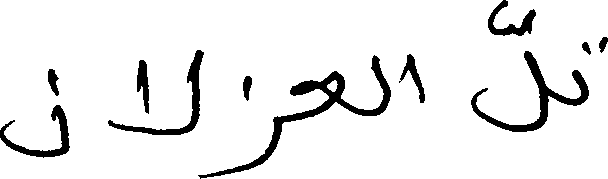ا: (403, 51, 426, 103)
ت: (570, 34, 606, 106)
ز: (224, 74, 282, 175)
ع: (287, 69, 344, 123)
ل: (469, 0, 547, 133), (368, 52, 391, 116)
لا: (107, 48, 204, 140)
ن: (0, 67, 70, 158)
